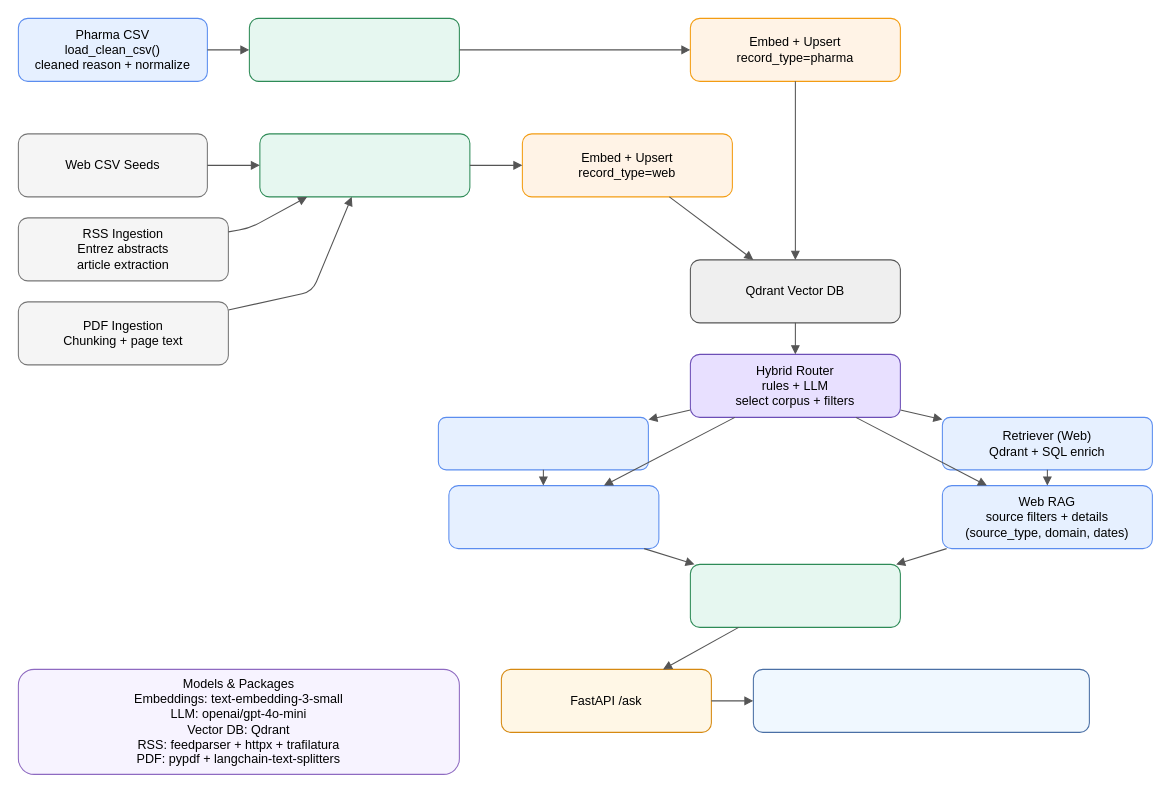
The diagram is 1171 pixels wide and 793 high, and some of its shapes have lost their labels. Here are the shapes that lost their labels. From the top down, the centre of each, then its label:
the point at 353,49: Postgres pharma_suggestions
the point at 364,165: Postgres web_suggestions
the point at 542,443: Retriever (Pharma) Qdrant + SQL enrich
the point at 553,517: Pharma RAG LLM filters + rerank (rep, HCP, specialty, channel)
the point at 794,595: LLM Answer + Citations
the point at 920,700: Validation Suite DB + Qdrant + Retrieval + Faithfulness + Routing
